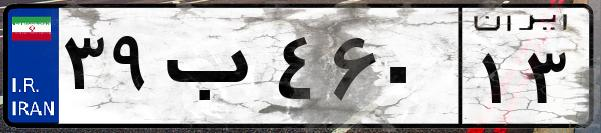0: (385, 28, 445, 110)
1: (475, 38, 525, 113)
3: (57, 26, 110, 100), (525, 38, 570, 115)
4: (270, 28, 330, 110)
6: (330, 28, 385, 110)
9: (110, 28, 158, 98)
ب: (158, 20, 270, 120)
